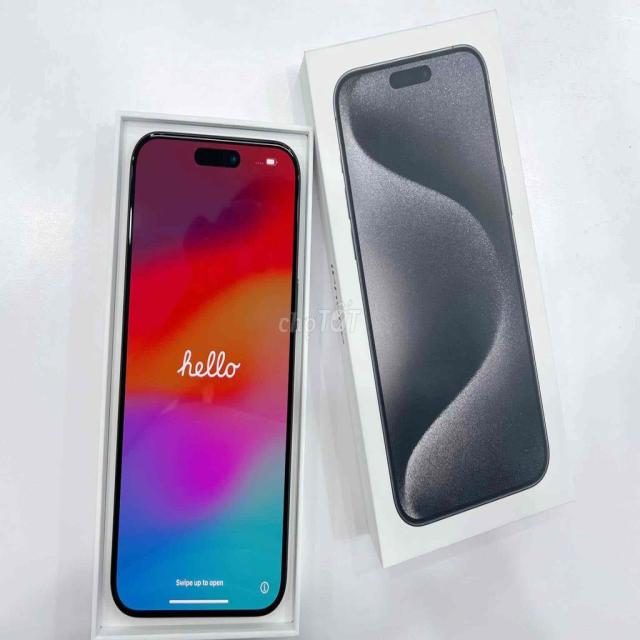gen_15: (80, 92, 301, 640)
